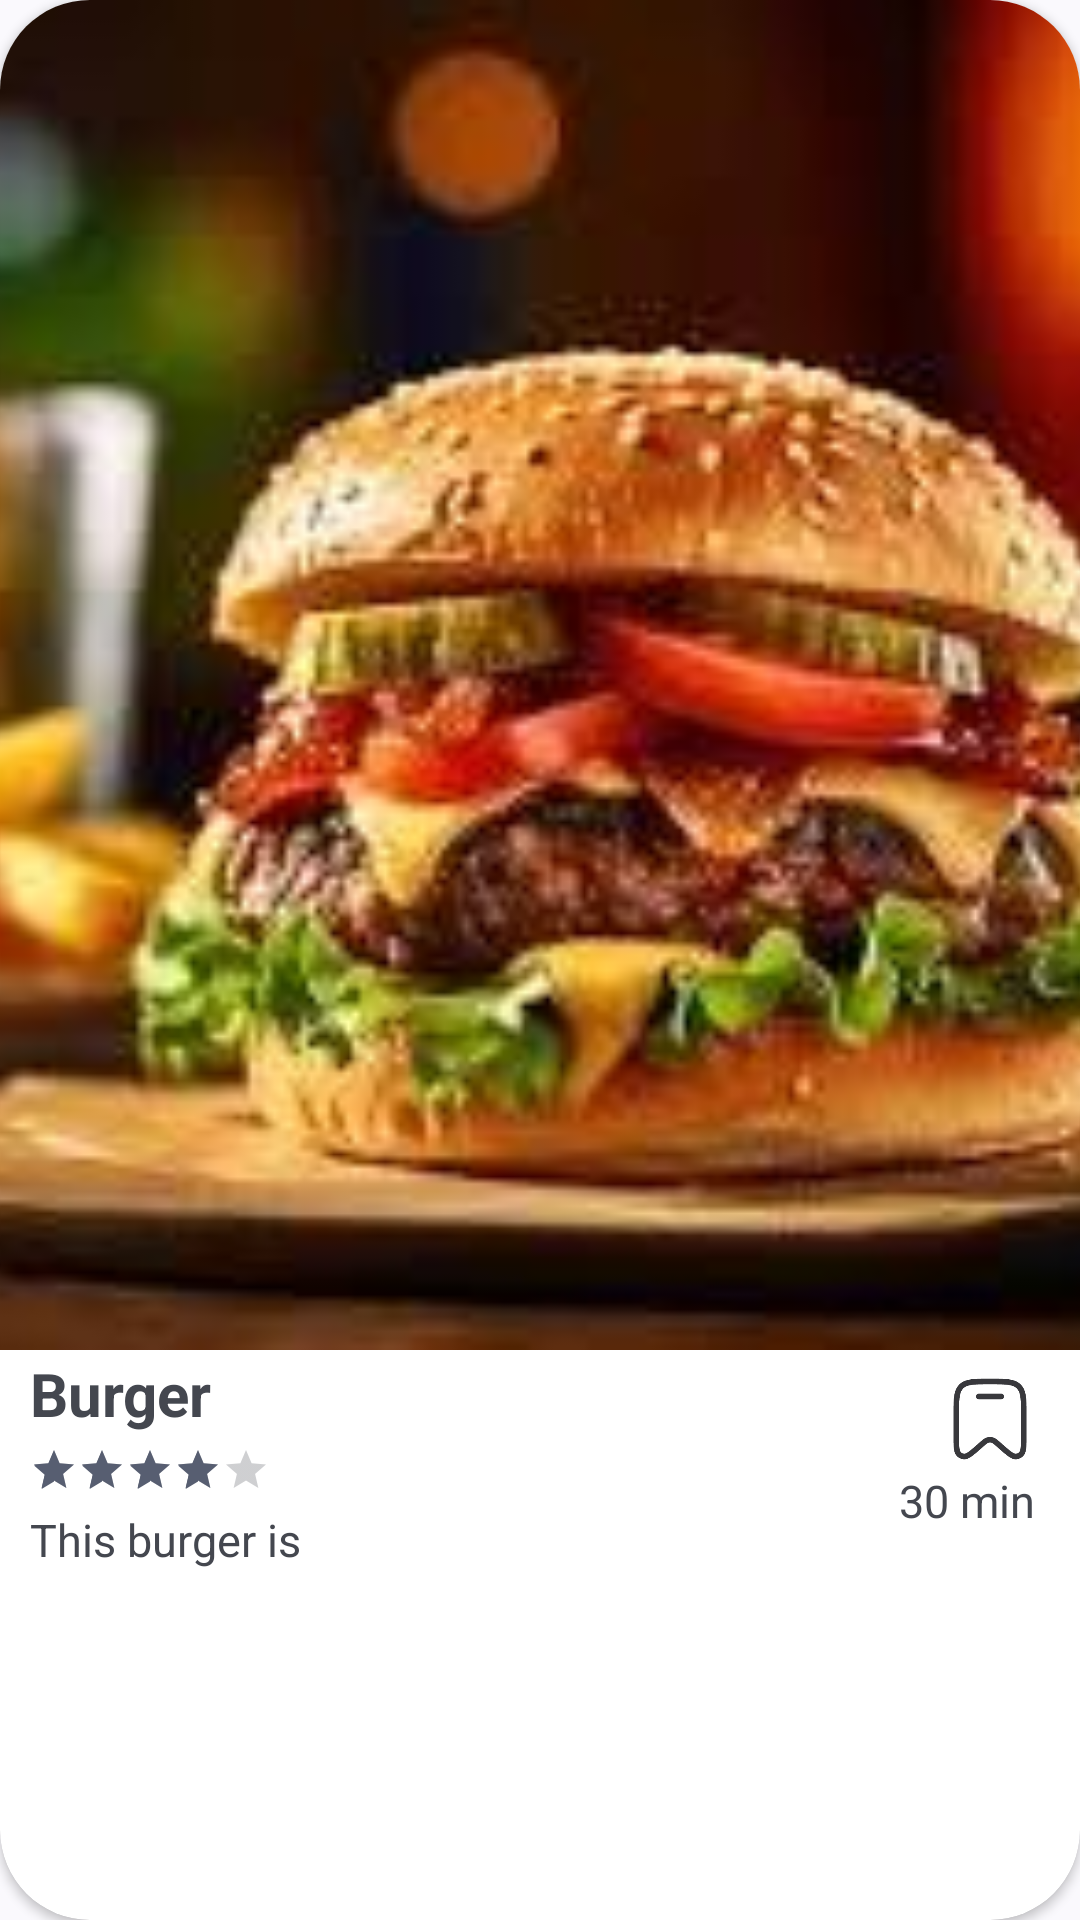

Where icons sit on this 1080w x 1920h app screen, as (x1, y1, x2, y2):
bookmark: (953, 1378, 1027, 1460)
